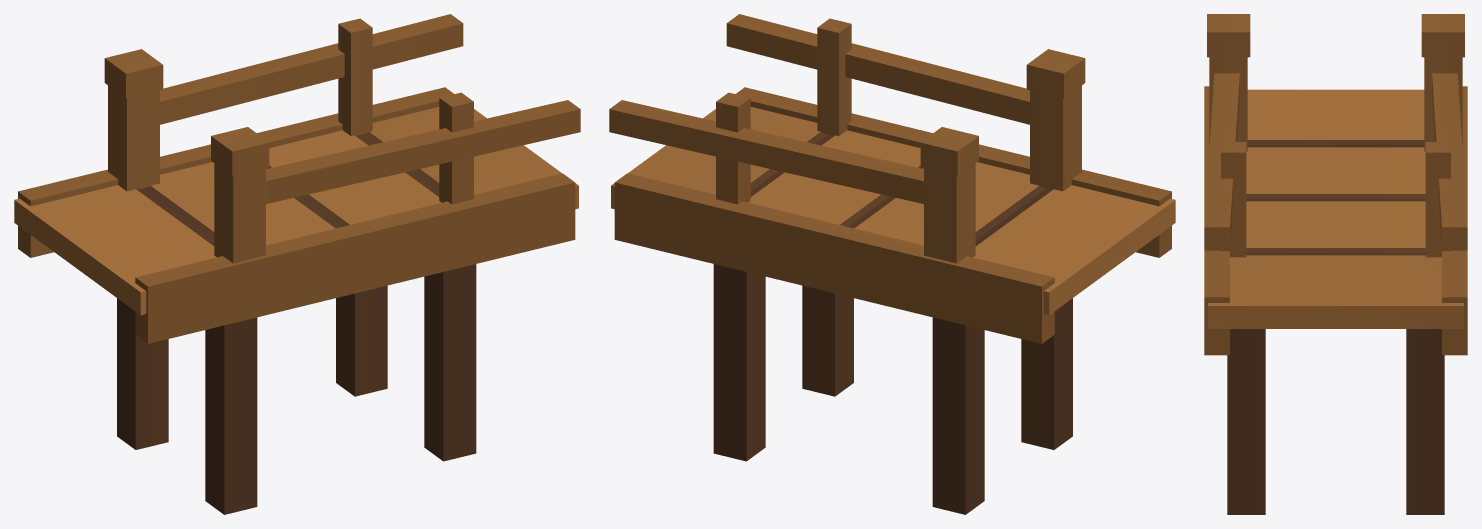
The model's file is Bridge_Wood_01.fbx.
3 renders of one model, left to right at view 1: azimuth 30°, elevation 25°; view 2: azimuth 150°, elevation 25°; view 3: azimuth 270°, elevation 25°, orthographic.
Parts seen in each view (by area): view 1: Bridge_Wood_01.001, Bridge_Leg, Bridge_Wood_01, Bridge_Wood_01.003, Bridge_Wood_01.004, Bridge_Wood_01.002; view 2: Bridge_Wood_01.001, Bridge_Leg, Bridge_Wood_01, Bridge_Wood_01.003, Bridge_Wood_01.004, Bridge_Wood_01.002; view 3: Bridge_Wood_01, Bridge_Leg, Bridge_Wood_01.003, Bridge_Wood_01.004, Bridge_Wood_01.001, Bridge_Wood_01.002.
Part boxes in pixels (<box>): Bridge_Wood_01.001: <box>18,87,575,343</box>; Bridge_Leg: <box>117,264,476,514</box>; Bridge_Wood_01: <box>14,107,578,315</box>; Bridge_Wood_01.003: <box>160,14,580,203</box>; Bridge_Wood_01.004: <box>104,49,269,263</box>; Bridge_Wood_01.002: <box>338,18,473,204</box>; Bridge_Wood_01.001: <box>614,87,1171,343</box>; Bridge_Leg: <box>713,264,1072,514</box>; Bridge_Wood_01: <box>611,107,1175,315</box>; Bridge_Wood_01.003: <box>609,14,1029,203</box>; Bridge_Wood_01.004: <box>920,49,1085,263</box>; Bridge_Wood_01.002: <box>716,18,851,204</box>; Bridge_Wood_01: <box>1208,89,1463,328</box>; Bridge_Leg: <box>1227,329,1444,514</box>; Bridge_Wood_01.003: <box>1204,73,1467,250</box>; Bridge_Wood_01.004: <box>1207,14,1464,151</box>; Bridge_Wood_01.001: <box>1204,86,1467,355</box>; Bridge_Wood_01.002: <box>1221,142,1450,257</box>.
Size of the model in its own units: 4 by 3.24 by 2.06.
